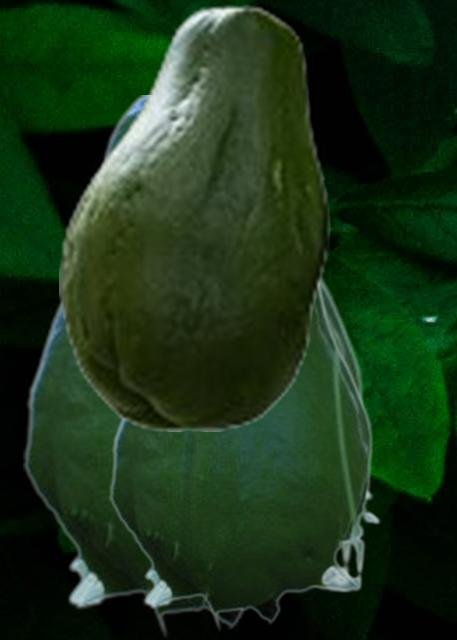sayote: (23, 95, 373, 637), (59, 4, 329, 430), (109, 282, 380, 630)
